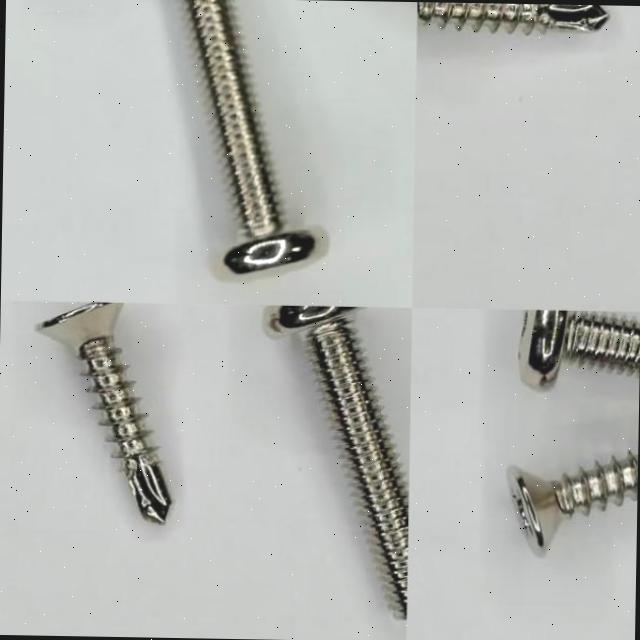Screw: (266, 305, 408, 619), (189, 0, 315, 273), (35, 302, 171, 523), (507, 452, 638, 557), (519, 309, 640, 390), (417, 2, 610, 35)
